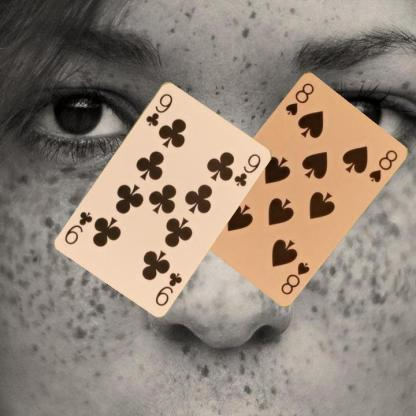8s: (278, 258, 311, 296), (282, 80, 316, 116)
9c: (152, 270, 184, 308), (143, 90, 174, 128)
